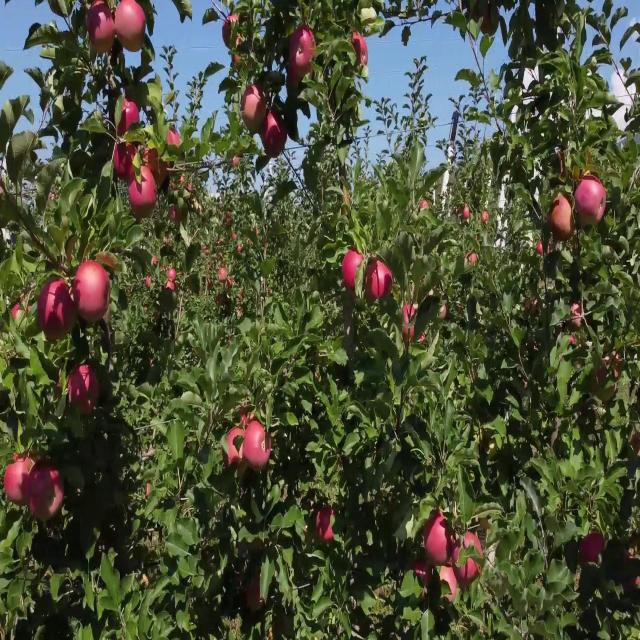apple: (72, 263, 112, 325), (40, 277, 77, 343), (28, 469, 65, 524), (68, 362, 101, 418), (452, 533, 484, 587), (128, 163, 158, 220), (116, 0, 147, 55), (288, 28, 317, 85), (576, 177, 608, 228), (4, 455, 34, 507), (424, 511, 451, 567), (244, 419, 272, 471), (88, 7, 116, 57), (240, 85, 268, 135), (548, 199, 576, 242), (596, 348, 623, 389), (112, 142, 137, 185), (264, 113, 288, 156), (144, 149, 171, 185), (116, 99, 140, 139), (368, 263, 394, 299), (224, 426, 245, 468), (224, 14, 246, 53), (344, 248, 364, 290), (580, 533, 607, 564), (316, 504, 336, 542), (244, 575, 264, 613), (412, 561, 432, 596), (288, 63, 313, 91), (440, 568, 459, 604), (480, 7, 500, 37), (352, 35, 368, 66), (364, 271, 377, 306), (572, 305, 587, 332), (536, 241, 554, 261), (524, 298, 540, 318), (168, 127, 180, 149), (560, 149, 568, 178), (240, 412, 255, 427), (632, 433, 640, 457), (464, 255, 479, 265)
